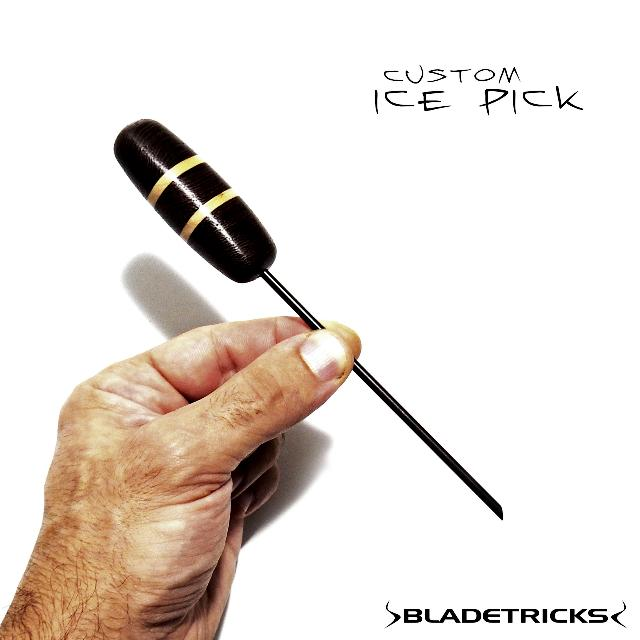ice pick: (115, 117, 502, 519)
